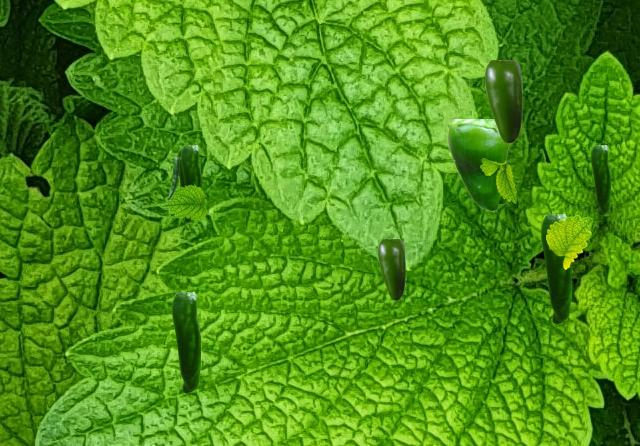green_chili: (447, 119, 509, 210), (541, 214, 570, 323), (485, 60, 521, 142), (172, 292, 199, 392), (378, 239, 404, 299), (591, 145, 609, 214), (177, 148, 193, 221), (181, 145, 200, 186), (167, 157, 178, 199)
